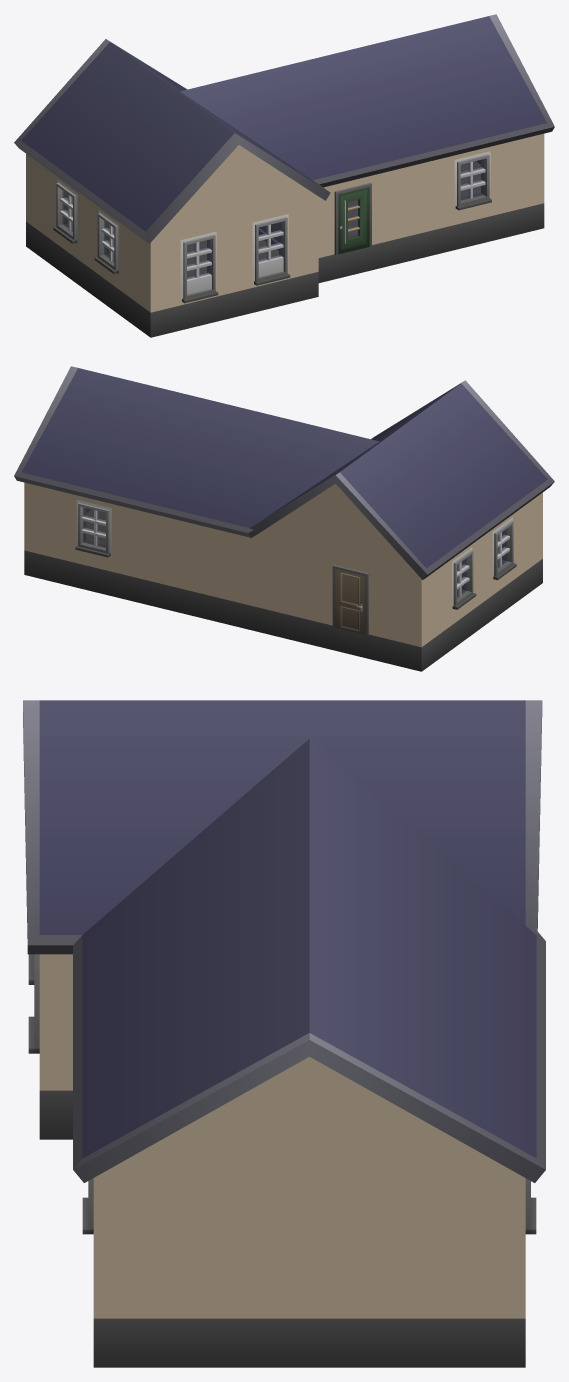
File: rumah-warga4.glb
3 renders of one model, top to bottom at view 1: azimuth 30°, elevation 25°; view 2: azimuth 150°, elevation 25°; view 3: azimuth 270°, elevation 25°, orthographic. The views are drawn at different scales.
Parts seen in each view (by area): view 1: Object_2, Object_3; view 2: Object_2, Object_3; view 3: Object_2.
Part boxes in pixels (x1=…): Object_2: x1=14, y1=14, x2=554, y2=337; Object_3: x1=62, y1=159, x2=483, y2=279; Object_2: x1=14, y1=366, x2=554, y2=671; Object_3: x1=83, y1=507, x2=507, y2=597; Object_2: x1=23, y1=700, x2=545, y2=1367.
Bounding box in the file's own units: 17.69 × 7.34 × 9.69.
Materials: 2 (1 with a texture image).
